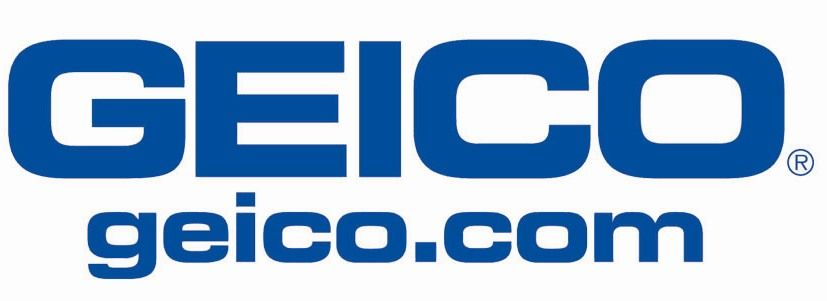Geico: (7, 36, 820, 194), (85, 212, 414, 283)
